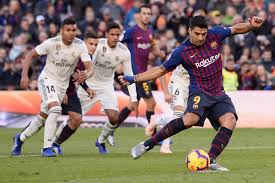barcelona: (152, 19, 269, 175), (121, 8, 164, 143), (62, 39, 98, 153)
realmadrid: (19, 19, 92, 163), (89, 27, 137, 157), (155, 44, 197, 159)
